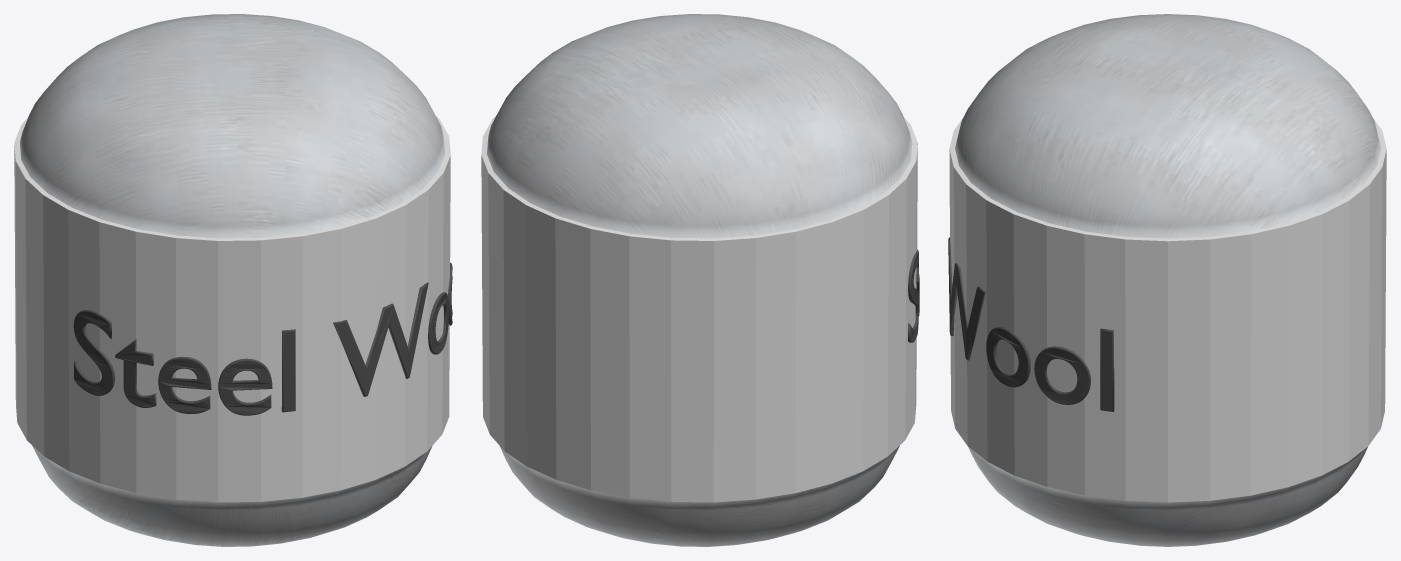
Rendered from Wool.fbx.
3 renders of one model, left to right at view 1: azimuth 30°, elevation 25°; view 2: azimuth 150°, elevation 25°; view 3: azimuth 270°, elevation 25°, orthographic.
Parts seen in each view (by area): view 1: Body.001, Header1.001; view 2: Body.001, Header1.001; view 3: Body.001, Header1.001.
Part boxes in pixels (box(x1,y1,x2,y2)): Body.001: box(14, 14, 450, 546); Header1.001: box(73, 262, 452, 415); Body.001: box(481, 14, 917, 546); Header1.001: box(908, 249, 919, 342); Body.001: box(949, 14, 1386, 546); Header1.001: box(948, 237, 1114, 411).
Size of the model in its own units: 206 by 227 by 206.
